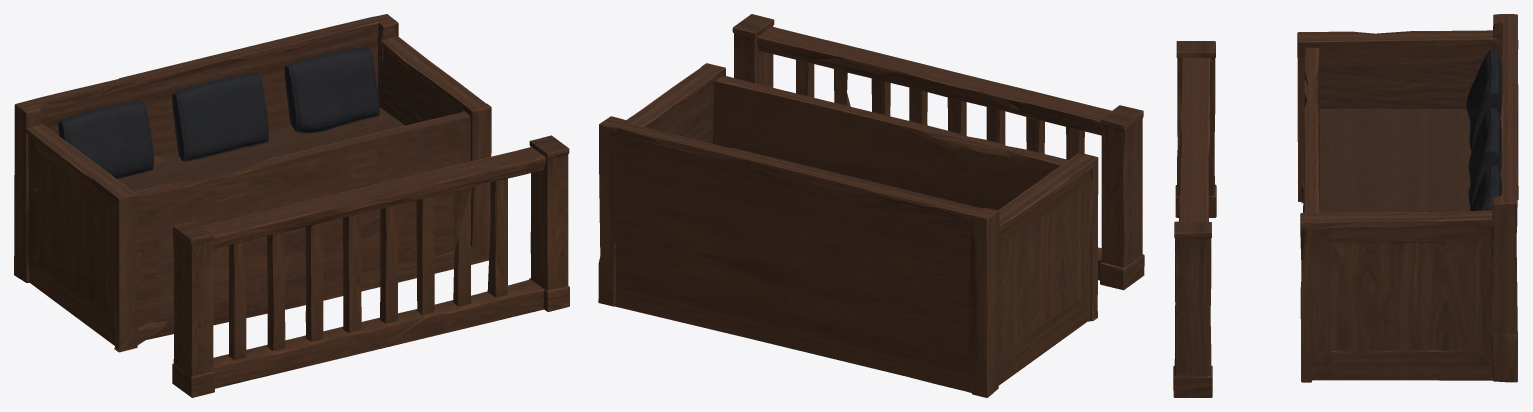
The model's file is sudlanuvchi-orni.glb.
3 views of the same model, side by side, from view 1: azimuth 30°, elevation 25°; view 2: azimuth 150°, elevation 25°; view 3: azimuth 270°, elevation 25° (orthographic). The views are drawn at different scales.
Parts seen in each view (by area): view 1: output_unwrapped; view 2: output_unwrapped; view 3: output_unwrapped.
Part boxes in pixels (<box>): output_unwrapped: <box>14,14,569,397</box>; output_unwrapped: <box>598,14,1144,397</box>; output_unwrapped: <box>1173,14,1518,397</box>.
Bounding box in the file's own units: 2.2 × 0.9572 × 1.61.
1 material, 1 textured.
